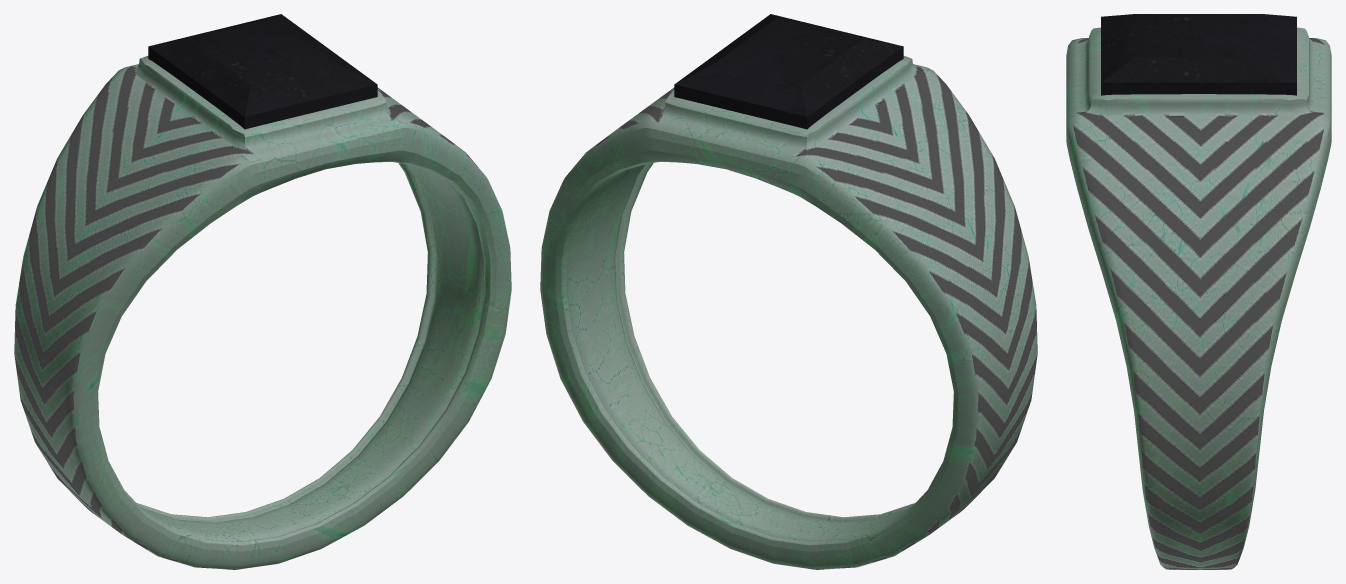
File: Ring_2.fbx
The picture shows the model from 3 angles, left to right: view 1: azimuth 30°, elevation 25°; view 2: azimuth 150°, elevation 25°; view 3: azimuth 270°, elevation 25°; orthographic projection.
Visible parts, largest first — view 1: Ring_Black; view 2: Ring_Black; view 3: Ring_Black.
Boxes of the visible parts, x1=… form: Ring_Black: x1=14, y1=14, x2=511, y2=569; Ring_Black: x1=540, y1=14, x2=1037, y2=569; Ring_Black: x1=1066, y1=14, x2=1331, y2=569.
Bounding box in the file's own units: 195 × 211 × 99.6.
